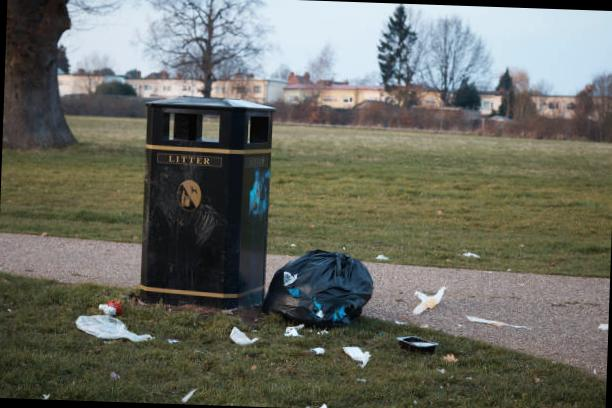trash: (243, 224, 382, 337), (382, 327, 452, 363), (395, 277, 448, 322), (462, 309, 534, 342), (79, 317, 138, 344), (333, 343, 371, 369), (222, 323, 256, 350), (460, 242, 483, 268), (368, 249, 394, 268), (94, 296, 118, 316), (282, 320, 308, 336), (310, 344, 325, 353)
trash_can_overflow: (106, 85, 418, 377)
